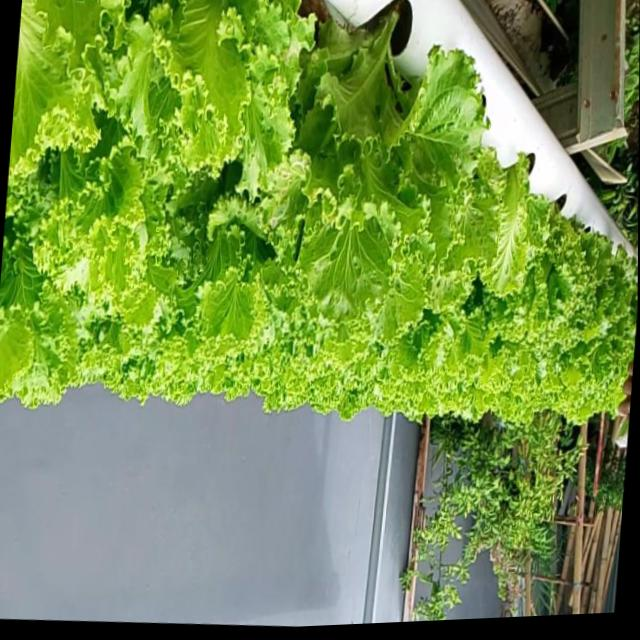Mature: (0, 0, 638, 422), (265, 0, 483, 324), (492, 180, 602, 344)
